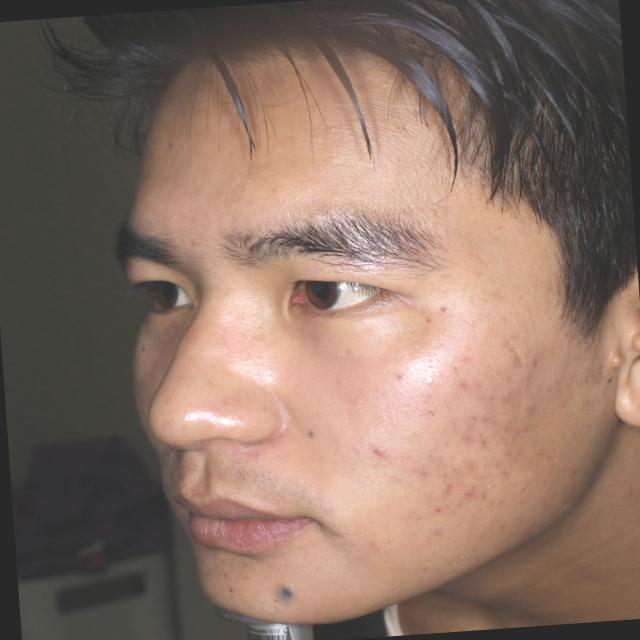acne: (503, 342, 545, 377), (412, 454, 452, 488), (444, 480, 483, 512), (461, 407, 502, 437), (361, 435, 399, 467), (489, 386, 526, 408), (445, 367, 472, 397), (463, 455, 488, 478)
